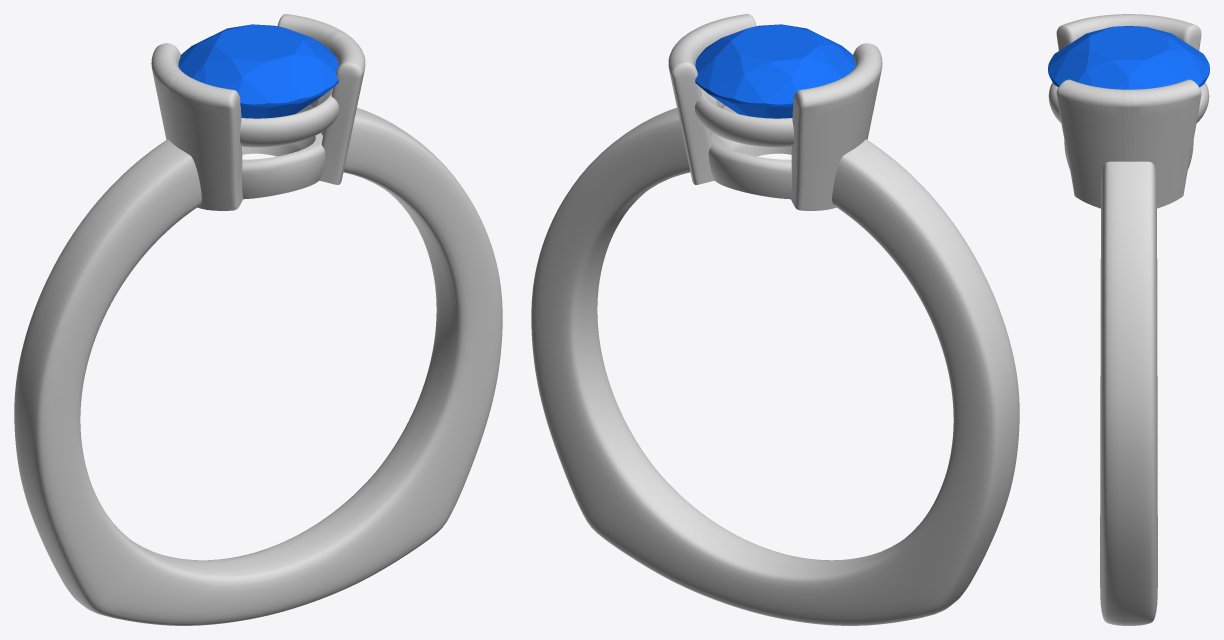
File: bluesapphire-round-platinum-halfmoonbezel-europeanshank-nosidestones.glb
3 views of the same model, side by side, from view 1: azimuth 30°, elevation 25°; view 2: azimuth 150°, elevation 25°; view 3: azimuth 270°, elevation 25° (orthographic). The views are drawn at different scales.
Parts seen in each view (by area): view 1: Round European Shank Half moon bezel, Roundstone; view 2: Round European Shank Half moon bezel, Roundstone; view 3: Round European Shank Half moon bezel, Roundstone.
Boxes of the visible parts, x1=… form: Round European Shank Half moon bezel: x1=14, y1=14, x2=502, y2=625; Roundstone: x1=178, y1=24, x2=338, y2=118; Round European Shank Half moon bezel: x1=531, y1=14, x2=1019, y2=625; Roundstone: x1=695, y1=24, x2=855, y2=118; Round European Shank Half moon bezel: x1=1048, y1=14, x2=1209, y2=625; Roundstone: x1=1048, y1=26, x2=1209, y2=89.
Size of the model in its own units: 20.7 by 23.81 by 6.44.
